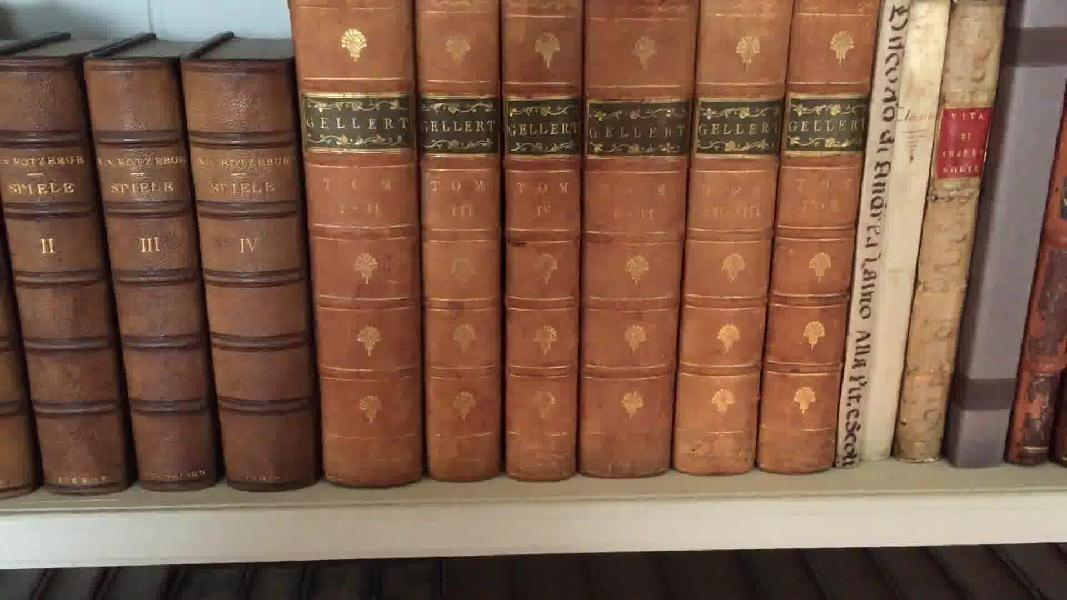Aa6-24: (844, 4, 886, 475)
